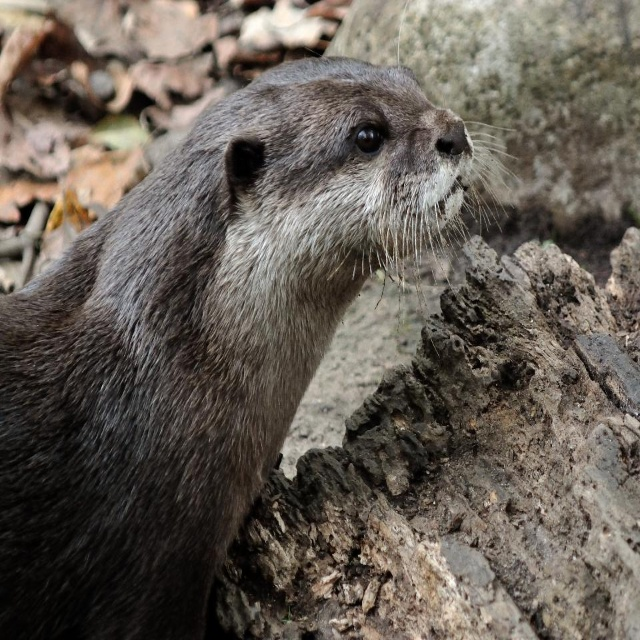Otter: (0, 2, 517, 640)
